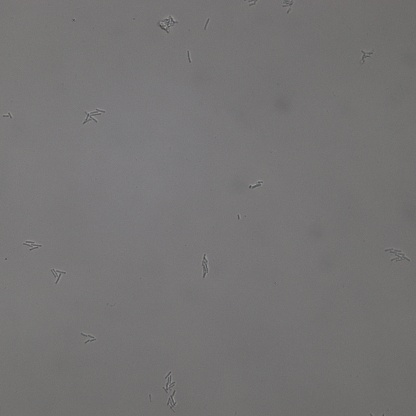R(colony): (385, 248, 410, 263), (157, 16, 177, 33), (83, 108, 105, 123), (162, 371, 175, 393), (51, 270, 66, 285), (201, 254, 209, 278), (81, 333, 97, 345), (167, 394, 177, 413), (360, 50, 373, 64), (24, 241, 42, 251), (281, 1, 293, 14), (248, 181, 264, 190)
